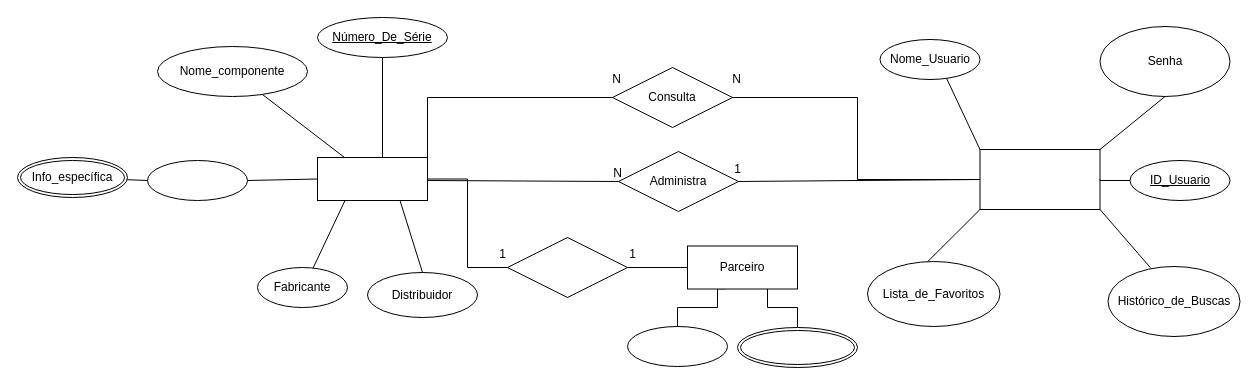
Some shapes in this 1258 by 385 pixel diagram are drawn without their labels. The shapes that lost their labels are listed below. From the top down, each one's box as (x1, y1, x2, y2) in pixels, then its label:
(146, 160, 248, 200): Categoria
(316, 156, 428, 200): Peça
(979, 148, 1100, 210): Usuário
(506, 236, 628, 298): Disponibiliza
(626, 326, 728, 366): Parceiro_id
(736, 326, 858, 368): Peça_vinculada
